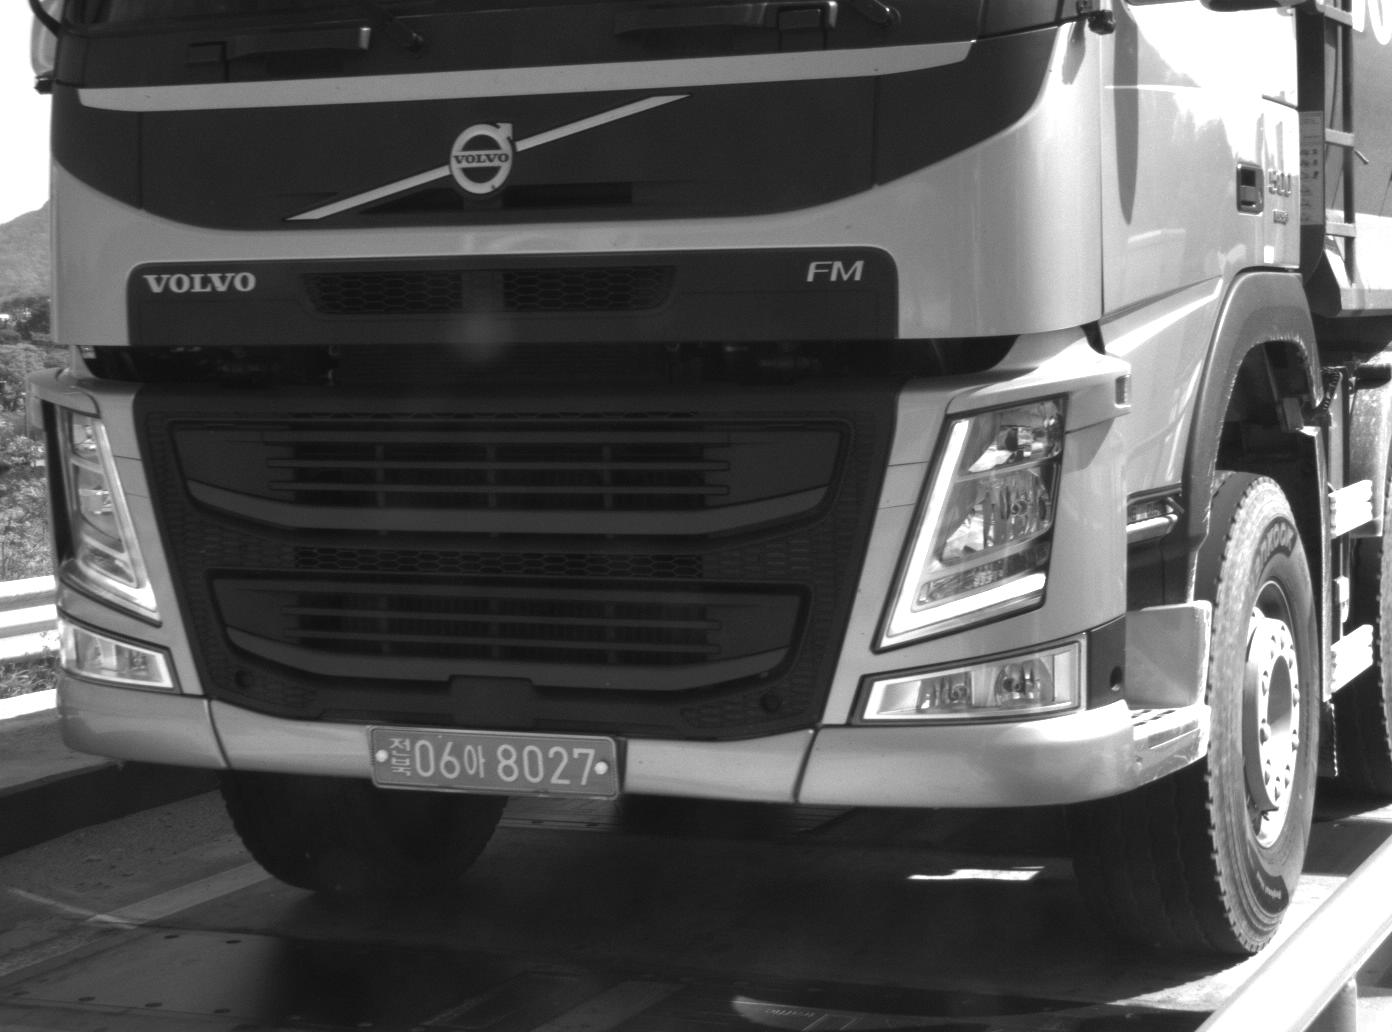car: (12, 1, 1392, 961)
plate: (367, 726, 623, 801)
